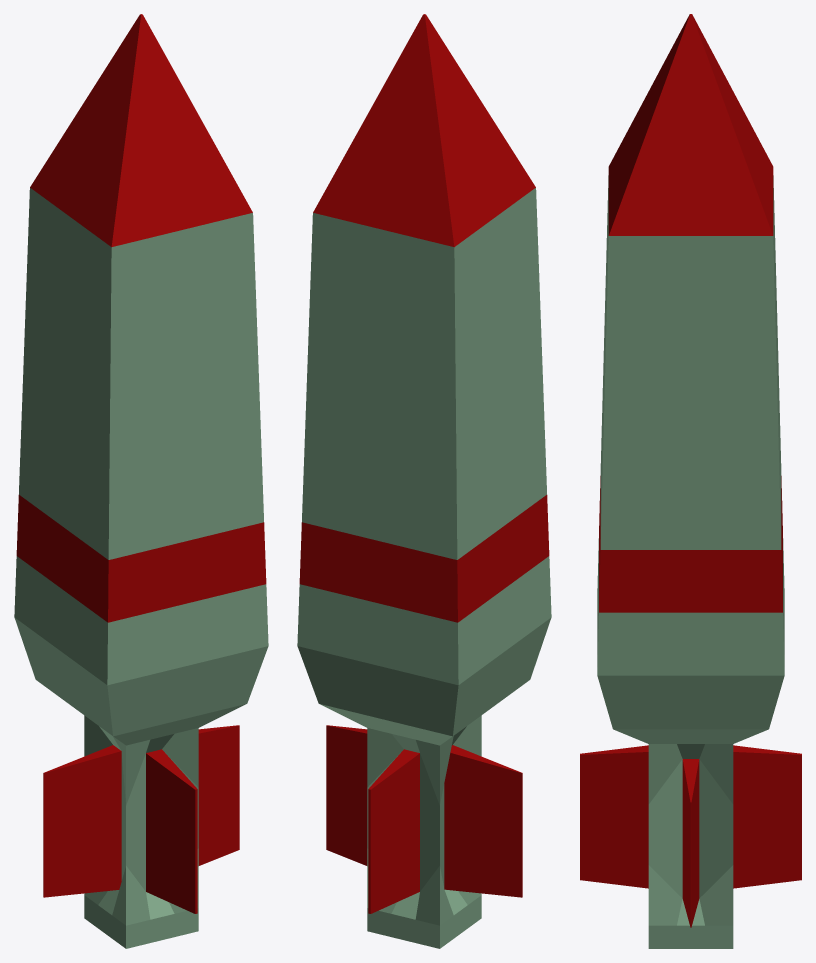
Rendered from nuke.obj.
3 views of the same model, side by side, from view 1: azimuth 30°, elevation 25°; view 2: azimuth 150°, elevation 25°; view 3: azimuth 270°, elevation 25° (orthographic).
Parts seen in each view (by area): view 1: Plane; view 2: Plane; view 3: Plane.
Part boxes in pixels (box(x1,y1,x2,y2)): Plane: box(14, 14, 268, 948); Plane: box(297, 14, 551, 948); Plane: box(580, 14, 801, 948).
Bounding box in the file's own units: 2.09 × 9.29 × 2.04.
